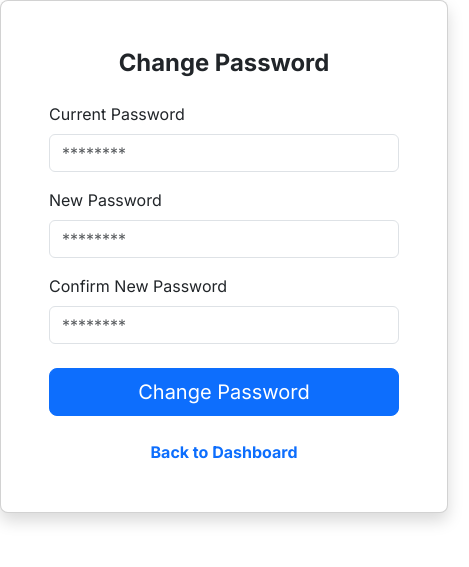
ProfileSettings › shows validation error if new and confirm new passwords do not match
This screenshot has width=469, height=567.
In the password field labelled "Current Password": (224, 153) [49,134,399,172], type "oldpass"
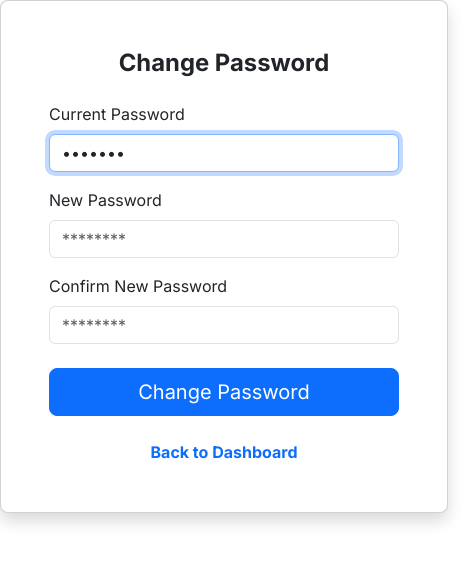
In the password field labelled "New Password": (224, 239) [49,220,399,258], type "newsecurepass"
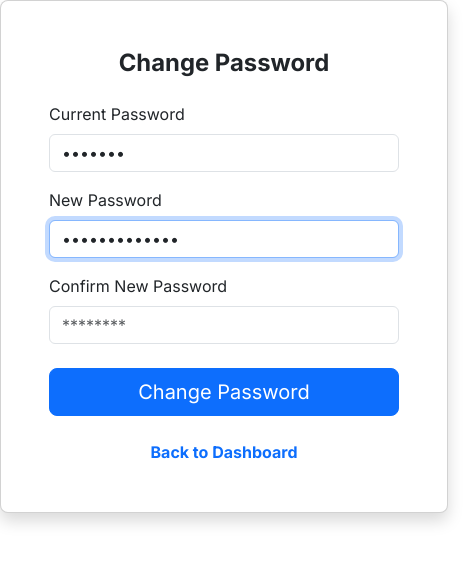
In the password field labelled "Confirm New Password": (224, 325) [49,306,399,344], type "mismatch"
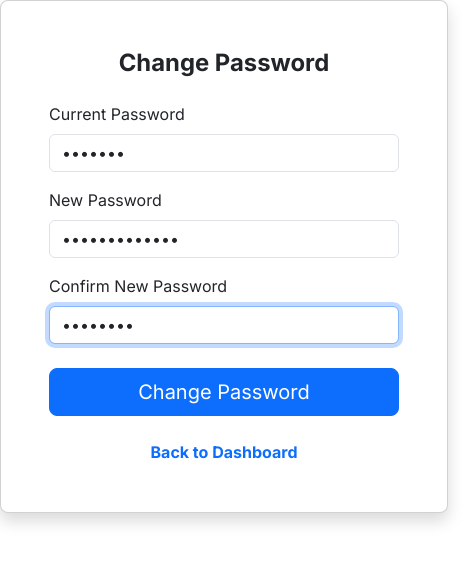
Click the button "Change Password": (224, 392) [49,368,399,416]
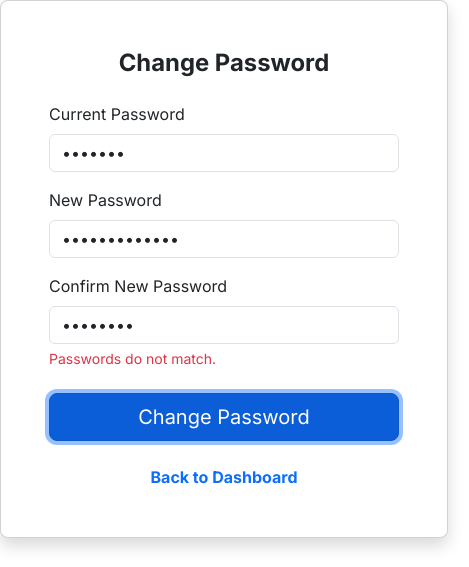
Now the text "Passwords do not match." is shown, box [49,350,216,367]
